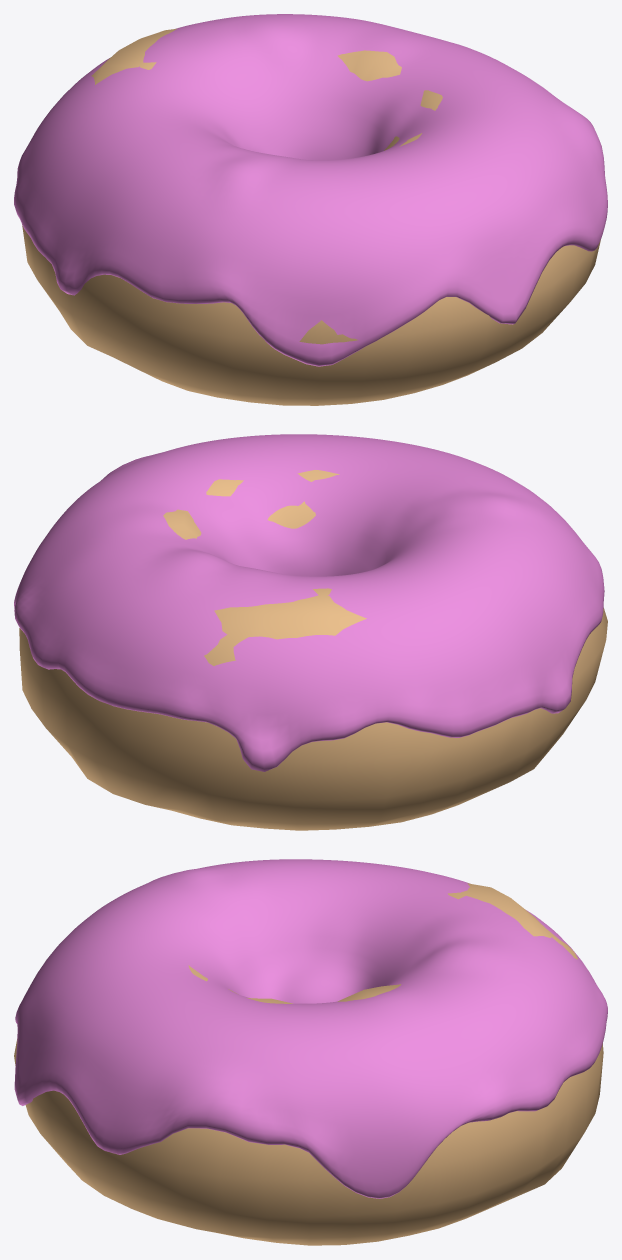
The model's file is donut.glb.
3 views of the same model, one above another, from view 1: azimuth 30°, elevation 25°; view 2: azimuth 150°, elevation 25°; view 3: azimuth 270°, elevation 25° (orthographic). The views are drawn at different scales.
Visible parts, largest first — view 1: Icing, Donut; view 2: Icing, Donut; view 3: Icing, Donut.
Boxes of the visible parts, x1,y1,x2,y2 form: Icing: [14, 14, 607, 366]; Donut: [22, 28, 600, 405]; Icing: [14, 434, 604, 771]; Donut: [19, 470, 607, 830]; Icing: [14, 859, 607, 1198]; Donut: [14, 883, 603, 1245].
Size of what is drawn, in the model's own units: 0.1007 by 0.0448 by 0.1024.
